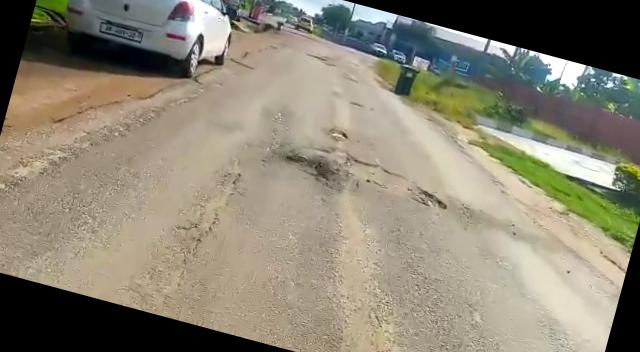pothole: (310, 145, 458, 213), (278, 146, 341, 188), (325, 127, 350, 144)
